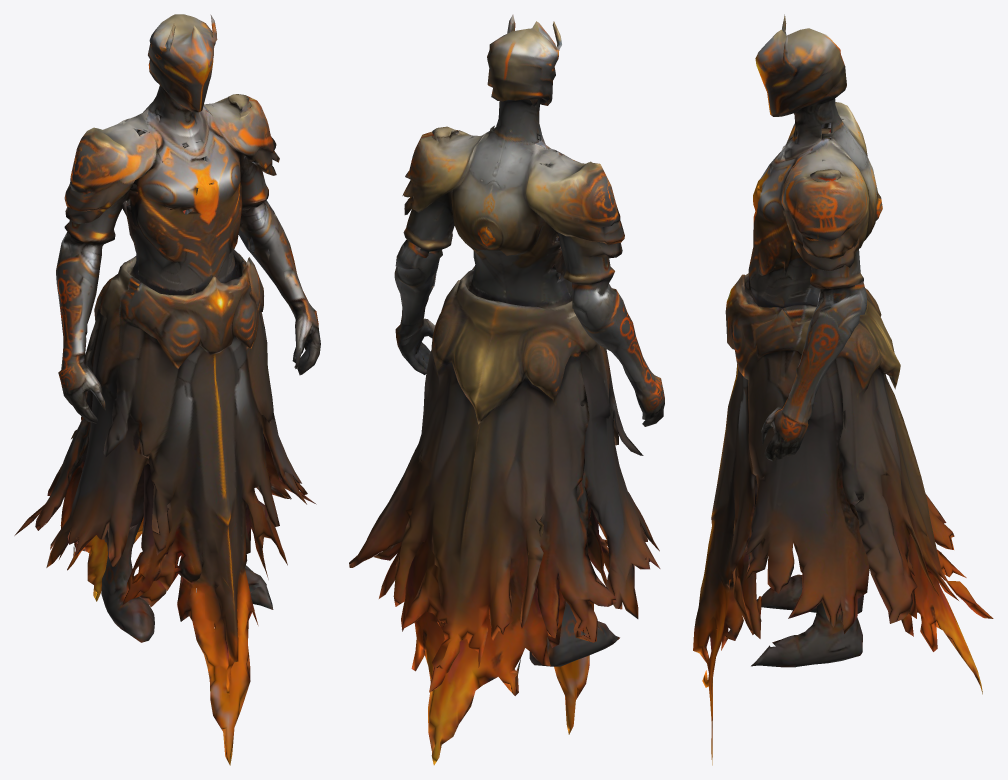
Rendered from Meshy_AI_Infernal_Guardian_1115233432_texture.glb.
The picture shows the model from 3 angles, left to right: view 1: azimuth 30°, elevation 25°; view 2: azimuth 150°, elevation 25°; view 3: azimuth 270°, elevation 25°; orthographic projection. The views are drawn at different scales.
Size of the model in its own units: 0.7369 by 2 by 0.7356.
Materials: 1 (1 with a texture image).
